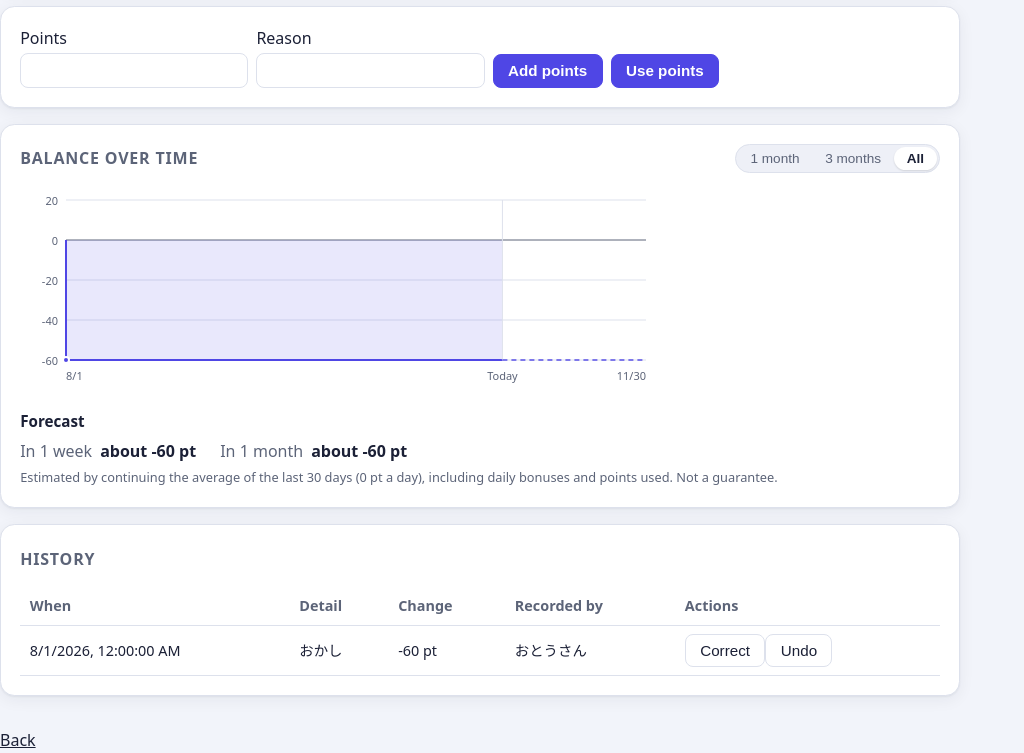
LedgerPage › 訂正を選ぶと、元の内容が入った入力欄に替わる
This screenshot has width=1024, height=753.
(page scrolled)
Expected: the text "-60 pt" is shown, [389, 625, 505, 676]
Click the button "Correct".
click(725, 650)  # box [685, 634, 765, 667]
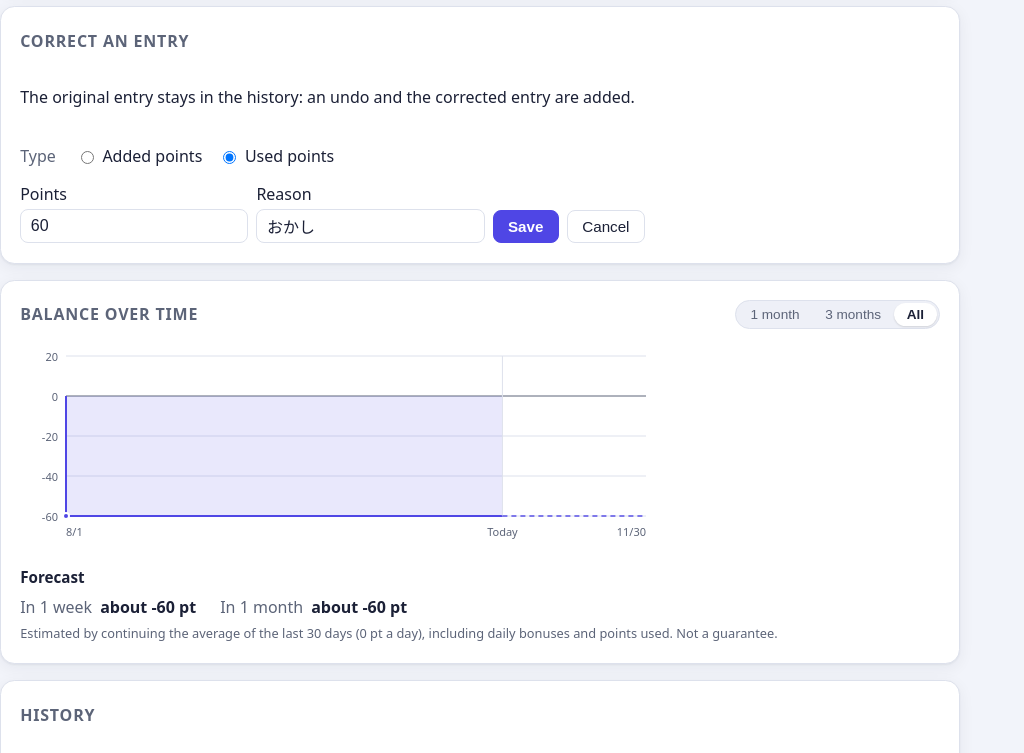
Expected: the number field labelled "Points" holds "60", [20, 209, 248, 244]
Expected: the radio button labelled "Used points" is checked, [223, 151, 236, 164]
Expected: the radio button labelled "Added points" is not checked, [81, 151, 94, 164]
